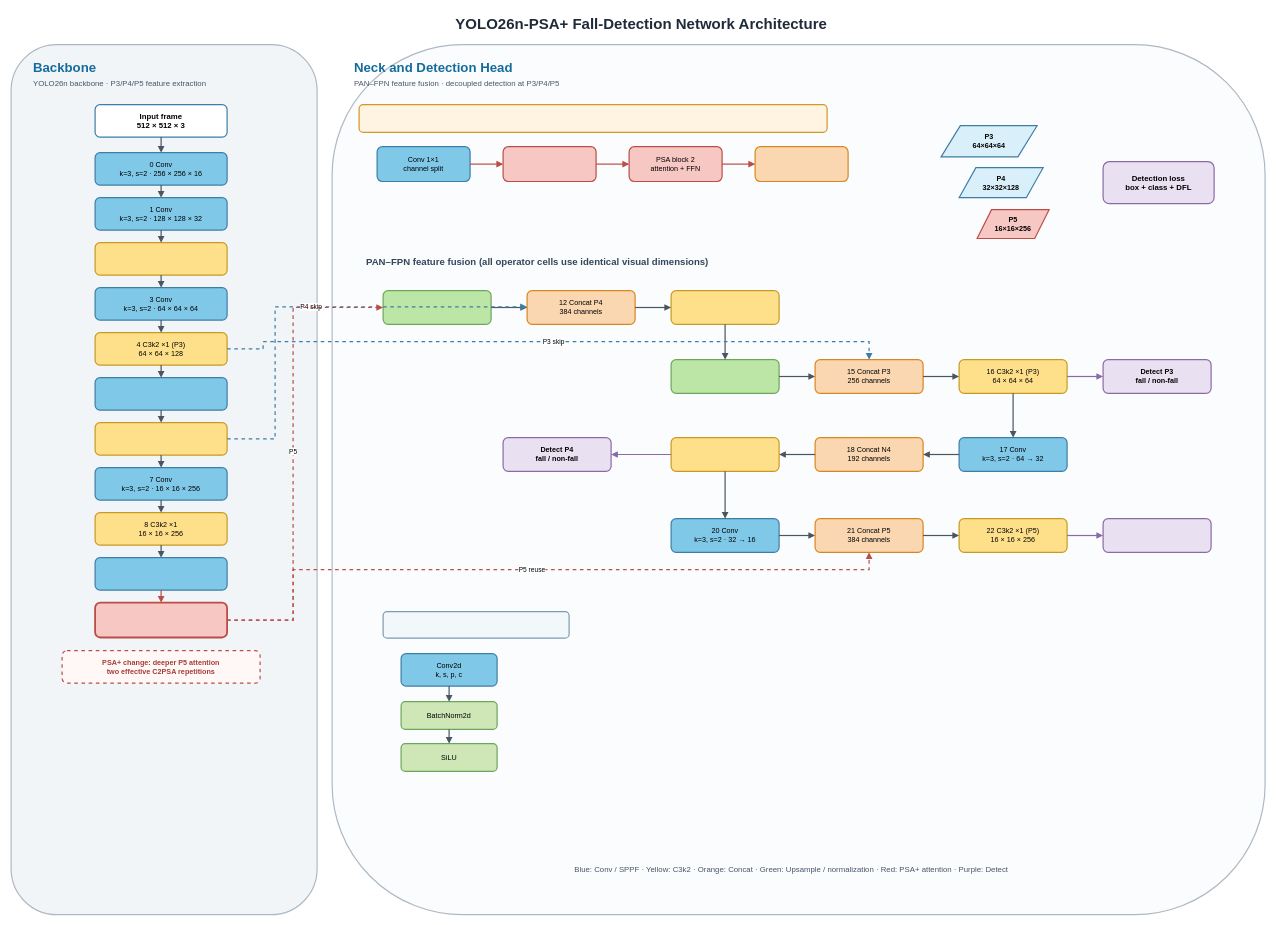
Image size: 1276x925. Some labels were removed from this diagram. Each missing label, with the centre of its shape:
10 C2PSA ×2 (P5) 16 × 16 × 256: the point at 161,620
11 Upsample ×2 P5: 16 → 32: the point at 436,307
13 C3k2 ×1 (N4) 32 × 32 × 128: the point at 724,307
14 Upsample ×2 N4: 32 → 64: the point at 724,376
19 C3k2 ×1 (P4) 32 × 32 × 128: the point at 724,454
2 C3k2 ×1 128 × 128 × 64: the point at 160,258
5 Conv k=3, s=2 · 32 × 32 × 128: the point at 160,393
6 C3k2 ×1 (P4) 32 × 32 × 128: the point at 160,438
9 SPPF 16 × 16 × 256: the point at 160,573
C2PSA ×2 — P5 attention detail: the point at 592,118
Concat + Conv 1×1 P5 output: the point at 801,164
Conv block: the point at 475,624
Detect P5 fall / non-fall: the point at 1156,535
PSA block 1 attention + FFN: the point at 549,164
